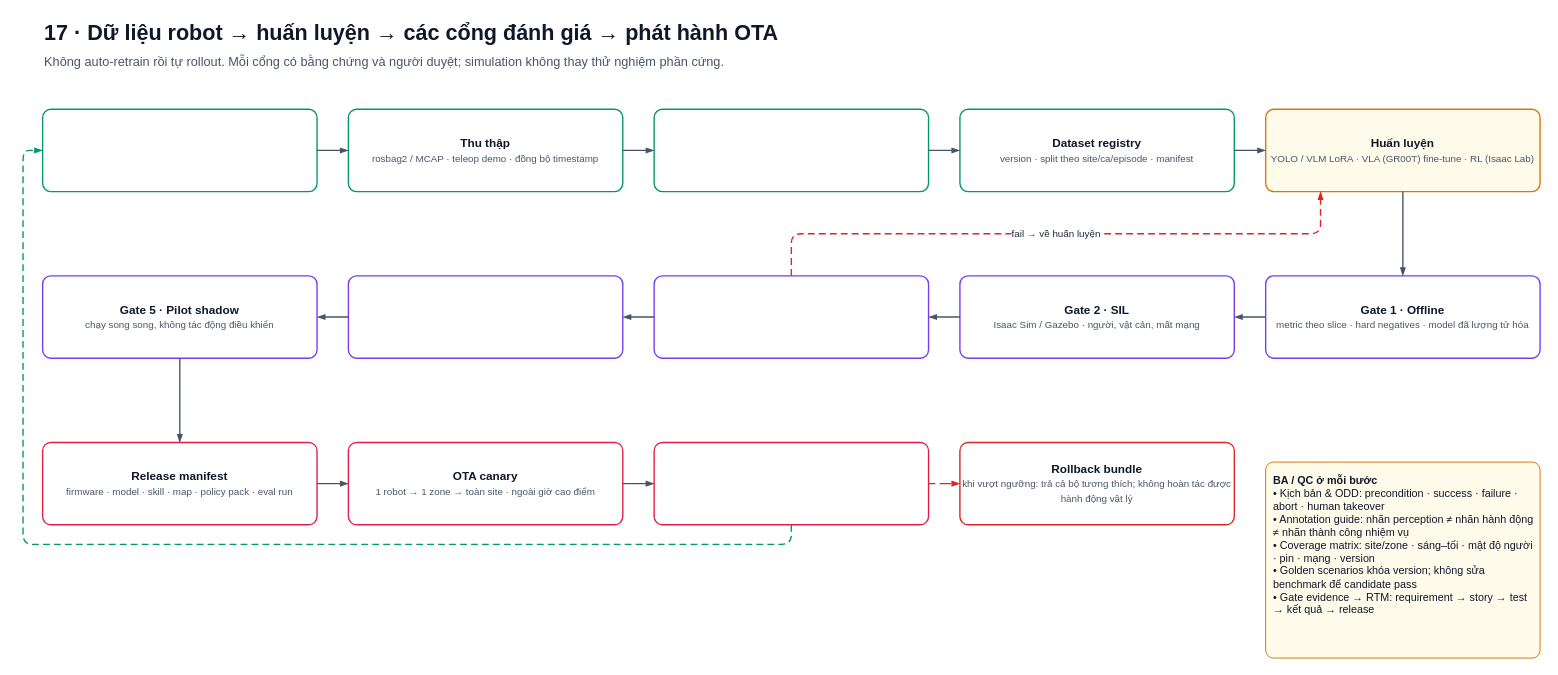
The diagram is 1558 pixels wide and 675 high, and some of its shapes have lost their labels. Here are the shapes that lost their labels. From the top down, the centre of each, then its label:
At point 179,150: "Vận hành thực địa log · cảnh báo sai · can thiệp của người · lỗi mission".
At point 791,150: "Data Factory curation · gắn tag kịch bản · gán nhãn CVAT / Label Studio".
At point 485,316: "Gate 4 · Test site tuyến thật ngoài giờ · có người giám sát".
At point 791,316: "Gate 3 · HIL phần cứng thật · khu thử có kiểm soát".
At point 791,483: "Fleet production theo dõi drift · field failure · KPI".
